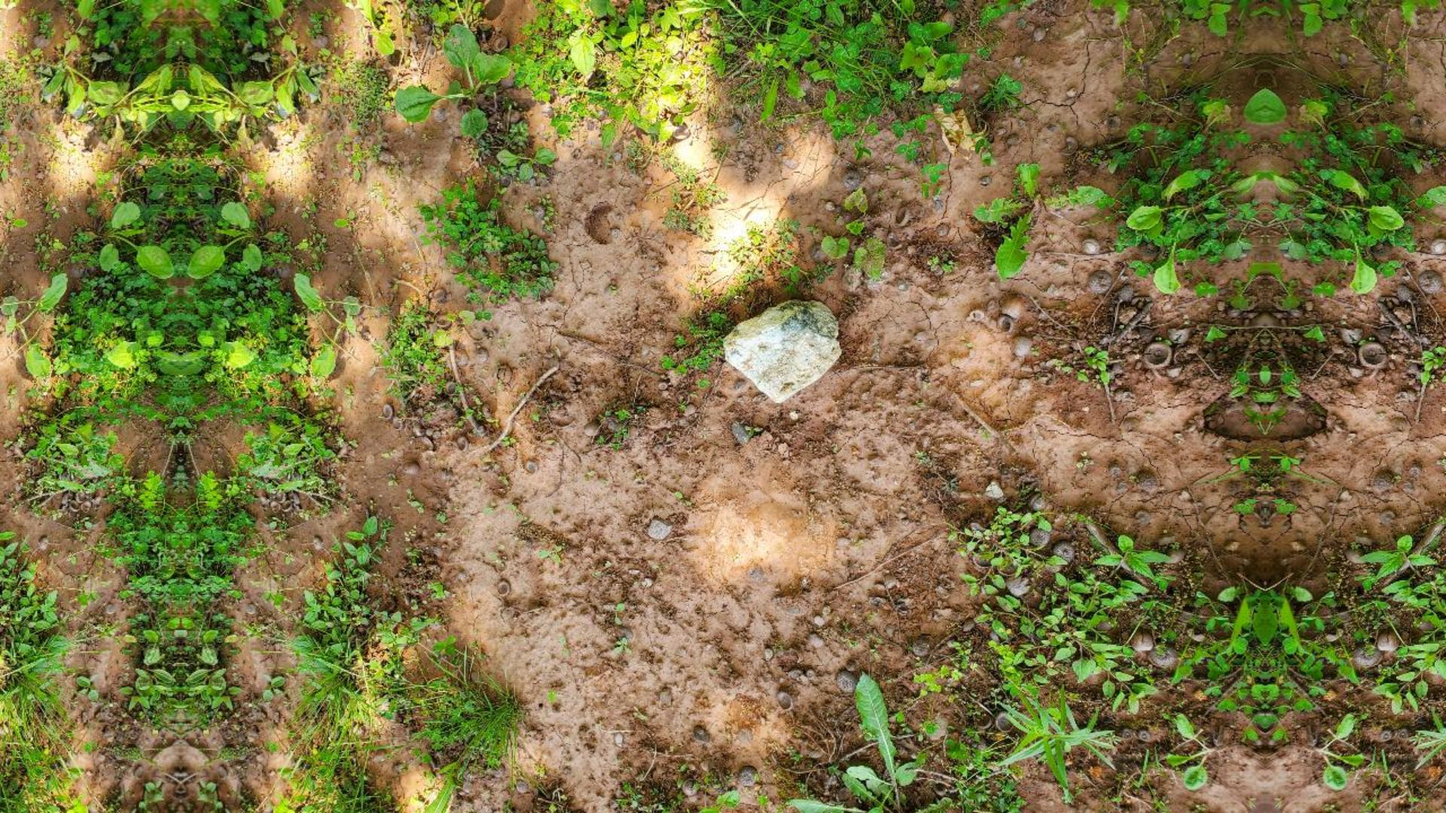rock: (724, 300, 840, 402)
